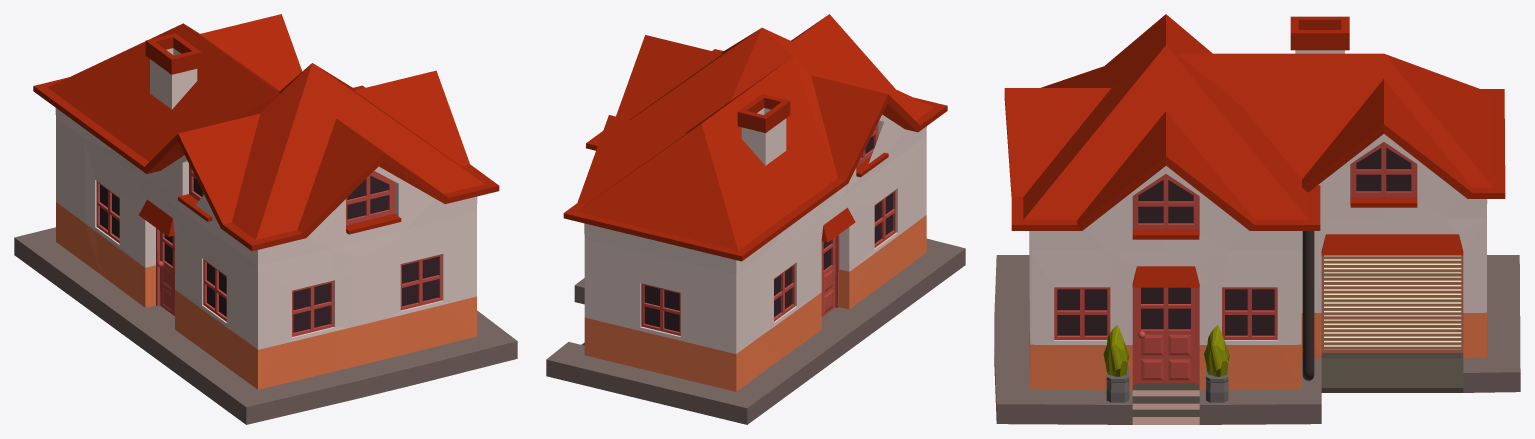
File: casa-grande.glb
3 renders of one model, left to right at view 1: azimuth 30°, elevation 25°; view 2: azimuth 150°, elevation 25°; view 3: azimuth 270°, elevation 25°, orthographic. The views are drawn at different scales.
Parts seen in each view (by area): view 1: PublicBuilding_7; view 2: PublicBuilding_7; view 3: PublicBuilding_7.
Boxes of the visible parts, x1,y1,x2,y2 form: PublicBuilding_7: [14, 14, 517, 424]; PublicBuilding_7: [546, 14, 965, 424]; PublicBuilding_7: [994, 14, 1520, 424].
Size of what is drawn, in the model's own units: 3.24 by 3.09 by 4.79.
Materials: 1 (1 with a texture image).
